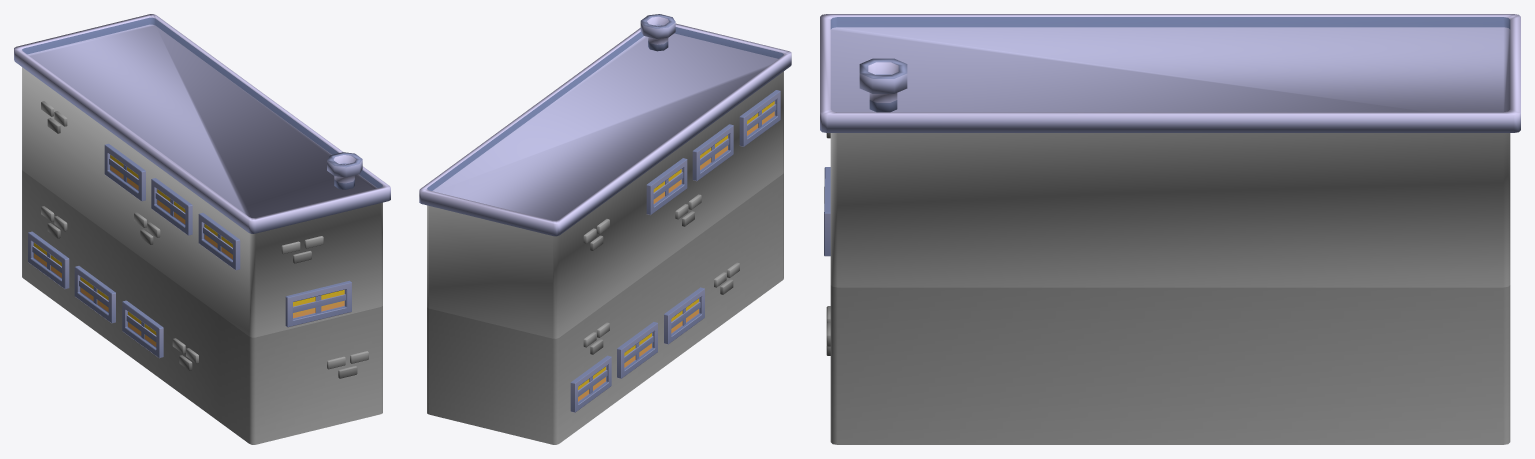
The model's file is BAT2.fbx.
The picture shows the model from 3 angles, left to right: view 1: azimuth 30°, elevation 25°; view 2: azimuth 150°, elevation 25°; view 3: azimuth 270°, elevation 25°; orthographic projection. The views are drawn at different scales.
Visible parts, largest first — view 1: Cube.051; view 2: Cube.051; view 3: Cube.051.
Part boxes in pixels (left/top/right/bottom): Cube.051: left=14, top=14, right=390, bottom=444; Cube.051: left=419, top=14, right=791, bottom=444; Cube.051: left=820, top=14, right=1520, bottom=444.
Bounding box in the file's own units: 2291 × 3766 × 6638.
